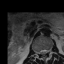CCS_normal: (42, 47, 44, 58)
LFS_normal: (47, 47, 49, 54)
LLS_normal: (44, 47, 47, 56)
RFS_normal: (37, 48, 39, 56)
RLS_normal: (39, 47, 42, 56)
